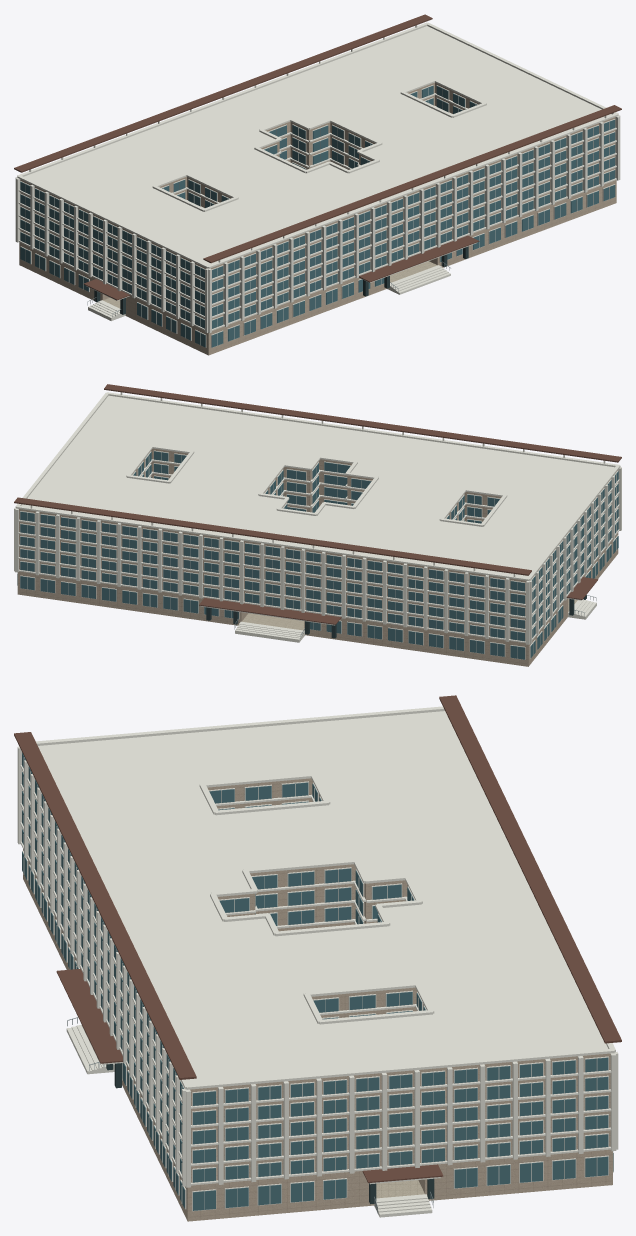
File: teaching-six.glb
The picture shows the model from 3 angles, top to bottom: view 1: azimuth 30°, elevation 25°; view 2: azimuth 150°, elevation 25°; view 3: azimuth 270°, elevation 25°; orthographic projection. The views are drawn at different scales.
Visible parts, largest first — view 1: landmark-teaching-six; view 2: landmark-teaching-six; view 3: landmark-teaching-six.
Part boxes in pixels (bbox=[...]): landmark-teaching-six: bbox=[14, 14, 621, 355]; landmark-teaching-six: bbox=[14, 384, 621, 666]; landmark-teaching-six: bbox=[14, 695, 621, 1221].
Size of the model in its own units: 125 by 22.14 by 83.97.
7 materials, 2 textured.
